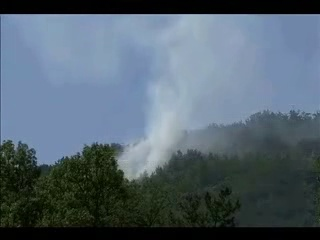smoke: (142, 17, 290, 155), (113, 125, 178, 183)
